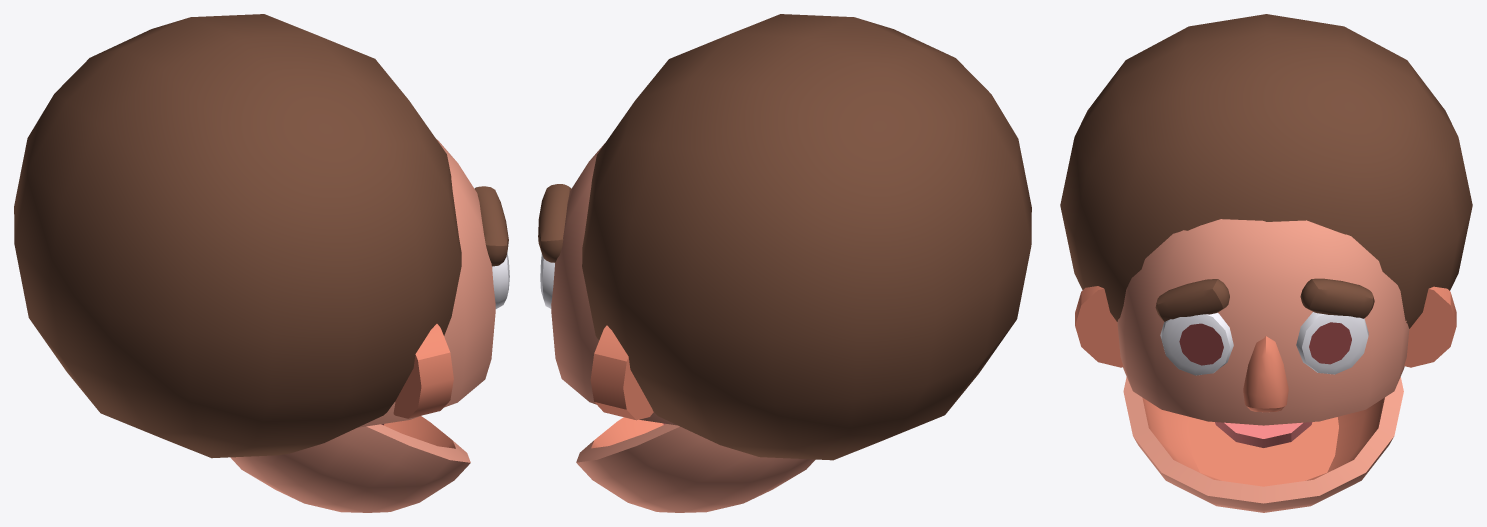
File: HeadContainer.fbx
3 renders of one model, left to right at view 1: azimuth 30°, elevation 25°; view 2: azimuth 150°, elevation 25°; view 3: azimuth 270°, elevation 25°, orthographic. The views are drawn at different scales.
Parts seen in each view (by area): view 1: Cube.001, Cube; view 2: Cube.001, Cube; view 3: Cube.001, Cube.
Part boxes in pixels (x1,y1,x2,y2): Cube.001: [14, 14, 509, 458]; Cube: [230, 416, 470, 512]; Cube.001: [538, 14, 1031, 460]; Cube: [576, 417, 815, 512]; Cube.001: [1060, 14, 1472, 425]; Cube: [1123, 377, 1403, 512].
Size of the model in its own units: 322 by 339 by 302.
